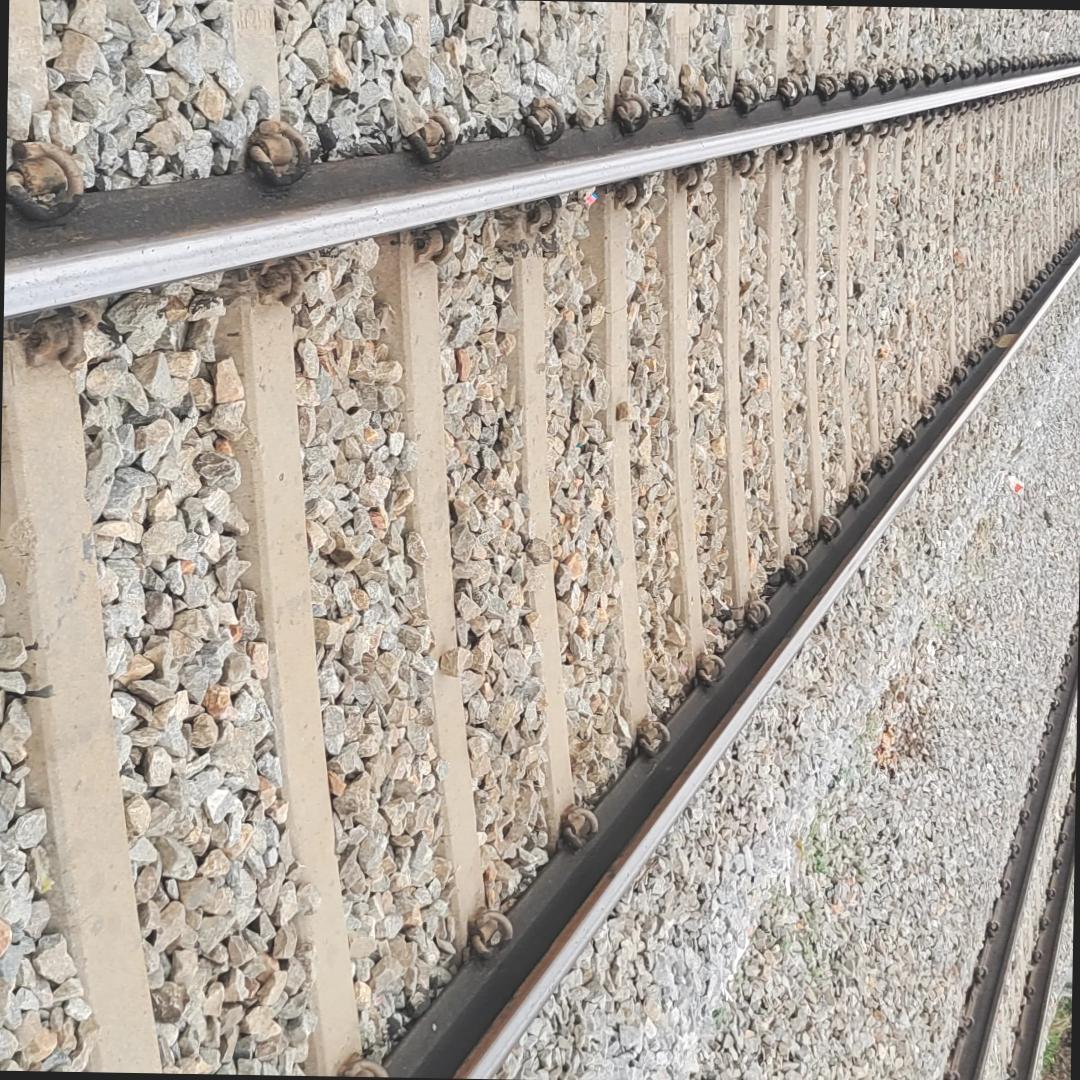track: (0, 9, 1079, 1045)
